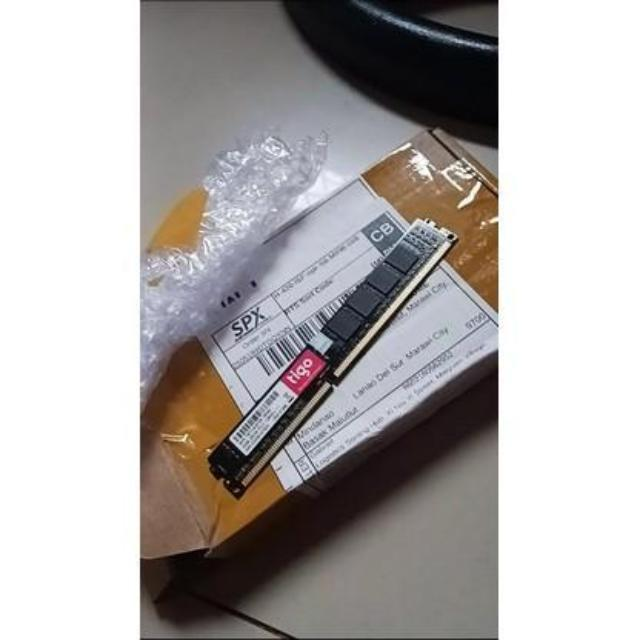RAM: (215, 212, 462, 498)
